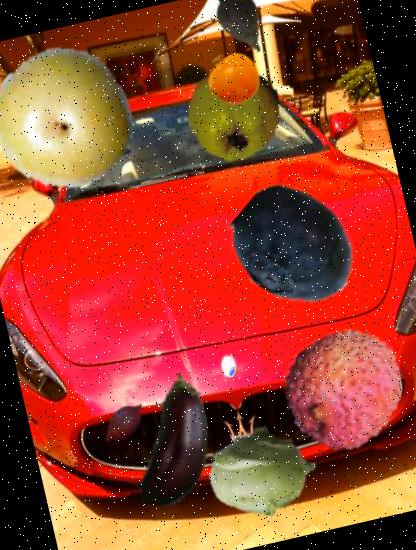Beetroot: (199, 0, 283, 65)
Blueberry: (217, 170, 371, 324)
Eggplant: (96, 359, 263, 526)
Kohlrabi: (196, 404, 330, 538)
Lychee: (270, 312, 416, 462)
Maracuja: (0, 31, 151, 204)
Physalis: (200, 44, 268, 111)
Quince: (178, 55, 292, 170)
Salak: (94, 392, 155, 452)
